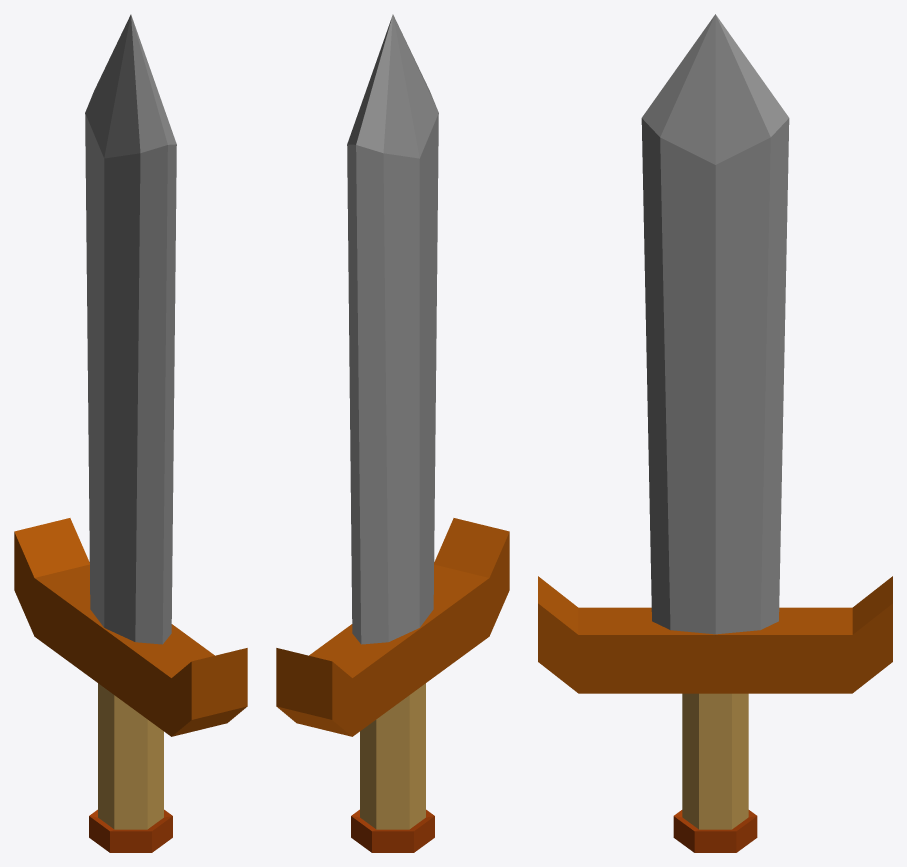
The model's file is Sword_2.fbx.
3 renders of one model, left to right at view 1: azimuth 30°, elevation 25°; view 2: azimuth 150°, elevation 25°; view 3: azimuth 270°, elevation 25°, orthographic.
Parts seen in each view (by area): view 1: Cube.001; view 2: Cube.001; view 3: Cube.001.
Part boxes in pixels (box(x1,y1,x2,y2)): Cube.001: box(14, 14, 247, 852); Cube.001: box(276, 14, 509, 852); Cube.001: box(538, 14, 892, 852).
Bounding box in the file's own units: 6.76 × 84.54 × 33.02.
